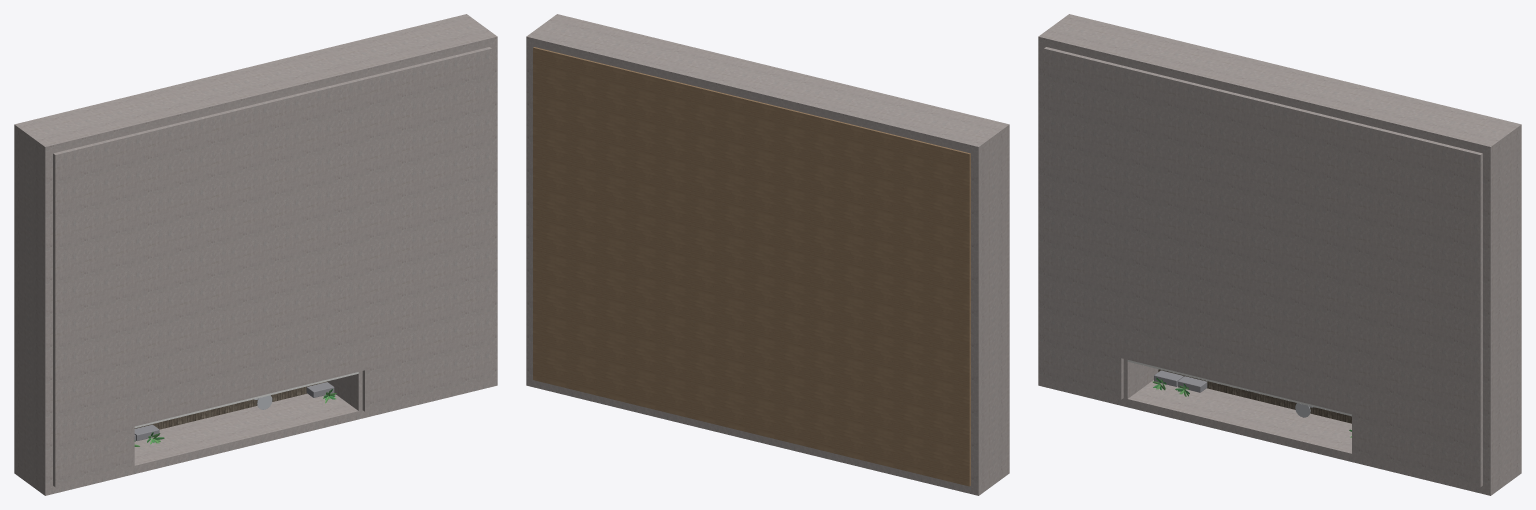
Rendered from apartment.glb.
The picture shows the model from 3 angles, left to right: view 1: azimuth 30°, elevation 25°; view 2: azimuth 150°, elevation 25°; view 3: azimuth 330°, elevation 25°; orthographic projection.
Visible parts, largest first — view 1: apartment_wall_out, apartment_deck, apartment_wall, apartment_planter, apartment_frame; view 2: apartment_floor_wood, apartment_wall_out; view 3: apartment_wall_out, apartment_deck, apartment_wall, apartment_planter, apartment_frame.
Boxes of the visible parts, <box> form: apartment_wall_out: <box>14,14,497,495</box>; apartment_deck: <box>134,381,327,429</box>; apartment_wall: <box>51,76,362,468</box>; apartment_planter: <box>134,382,334,441</box>; apartment_frame: <box>134,372,358,428</box>; apartment_floor_wood: <box>533,47,970,486</box>; apartment_wall_out: <box>526,14,1009,495</box>; apartment_wall_out: <box>1038,14,1521,495</box>; apartment_deck: <box>1158,369,1351,423</box>; apartment_wall: <box>1123,76,1484,455</box>; apartment_planter: <box>1154,370,1207,392</box>; apartment_frame: <box>1127,360,1351,416</box>.
Bounding box in the file's own units: 22.8 × 16.8 × 3.
50 materials, 9 textured.
